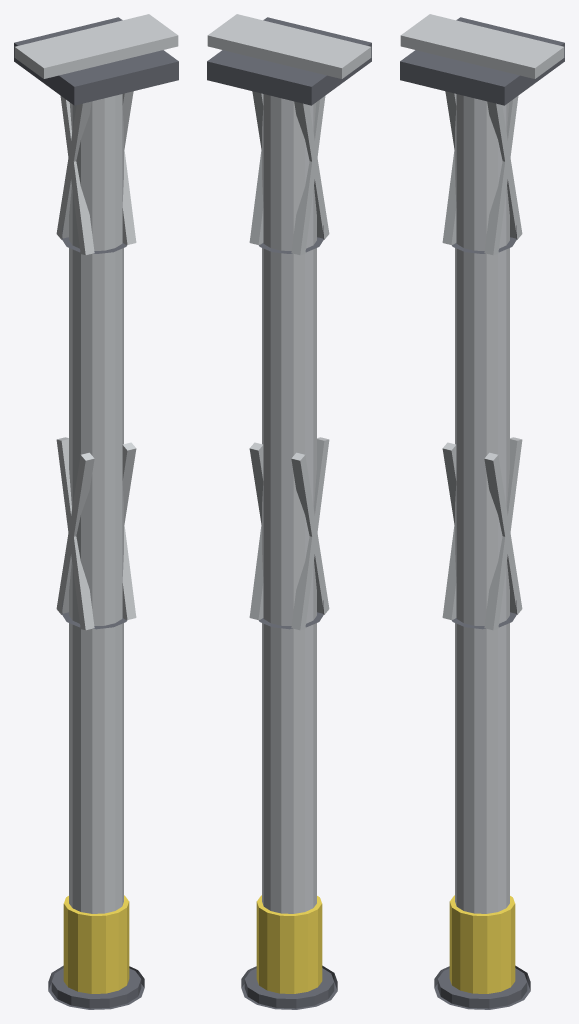
Rendered from theme-park-rides-and-coasters-theme-park-rides-and-coa-a28d2bfd__28635.glb.
The picture shows the model from 3 angles, left to right: view 1: azimuth 30°, elevation 25°; view 2: azimuth 150°, elevation 25°; view 3: azimuth 330°, elevation 25°; orthographic projection.
Visible parts, largest first — view 1: theme-park-rides-and-coasters-support-column-6m; view 2: theme-park-rides-and-coasters-support-column-6m; view 3: theme-park-rides-and-coasters-support-column-6m.
Boxes of the visible parts, bbox=[...] form: theme-park-rides-and-coasters-support-column-6m: bbox=[14, 14, 178, 1009]; theme-park-rides-and-coasters-support-column-6m: bbox=[207, 14, 371, 1009]; theme-park-rides-and-coasters-support-column-6m: bbox=[400, 14, 564, 1009].
Size of the model in its own units: 0.9002 by 6.07 by 0.7002.
